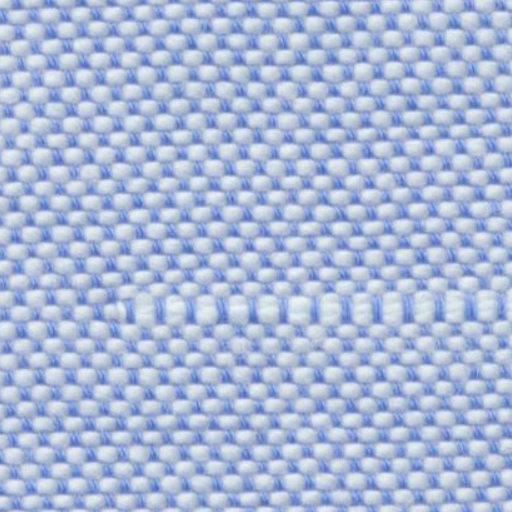DaiSha: (96, 276, 502, 346)
